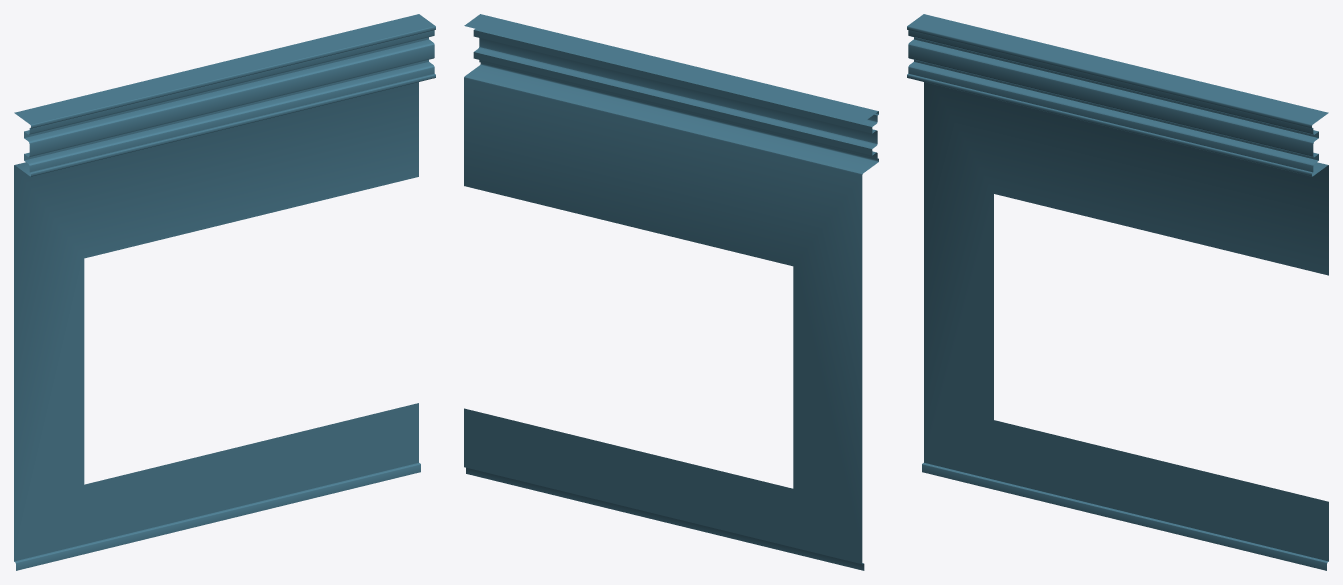
Rendered from GS_Ext_Front_Wall_Window_Half_01.fbx.
3 renders of one model, left to right at view 1: azimuth 30°, elevation 25°; view 2: azimuth 150°, elevation 25°; view 3: azimuth 330°, elevation 25°, orthographic.
Visible parts, largest first — view 1: GS_Ext_Front_Wall_Window_Half_01; view 2: GS_Ext_Front_Wall_Window_Half_01; view 3: GS_Ext_Front_Wall_Window_Half_01.
Boxes of the visible parts, box(x1,y1,x2,y2) form: GS_Ext_Front_Wall_Window_Half_01: box(14, 14, 435, 570); GS_Ext_Front_Wall_Window_Half_01: box(464, 14, 878, 570); GS_Ext_Front_Wall_Window_Half_01: box(907, 14, 1328, 570).
Size of the model in its own units: 375 by 404 by 27.
